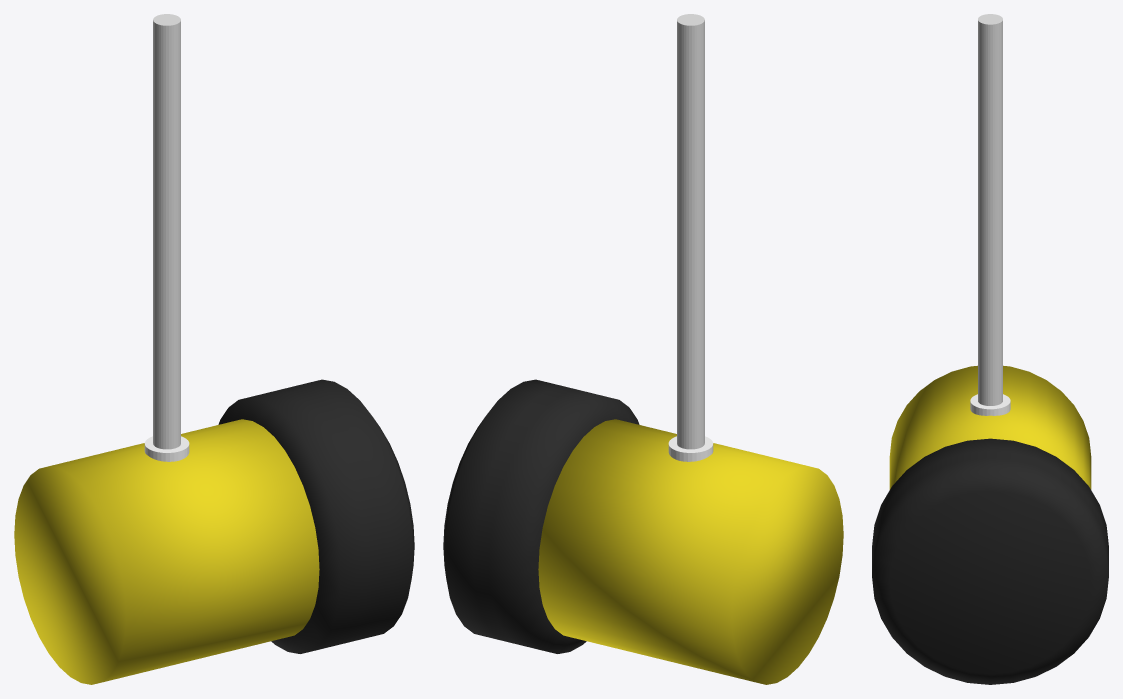
Rendered from pendulum_hammer.glb.
3 renders of one model, left to right at view 1: azimuth 30°, elevation 25°; view 2: azimuth 150°, elevation 25°; view 3: azimuth 270°, elevation 25°, orthographic. The views are drawn at different scales.
Visible parts, largest first — view 1: Cylinder, Cylinder.001, Cylinder.002, Cylinder.003; view 2: Cylinder, Cylinder.001, Cylinder.002, Cylinder.003; view 3: Cylinder.001, Cylinder, Cylinder.002, Cylinder.003.
Part boxes in pixels (bbox=[...]): Cylinder: bbox=[14, 419, 319, 684]; Cylinder.001: bbox=[218, 379, 414, 653]; Cylinder.002: bbox=[153, 14, 180, 449]; Cylinder.003: bbox=[144, 436, 189, 461]; Cylinder: bbox=[538, 419, 843, 684]; Cylinder.001: bbox=[443, 379, 639, 653]; Cylinder.002: bbox=[677, 14, 704, 449]; Cylinder.003: bbox=[668, 436, 713, 461]; Cylinder.001: bbox=[872, 438, 1108, 684]; Cylinder: bbox=[889, 365, 1091, 489]; Cylinder.002: bbox=[978, 14, 1002, 405]; Cylinder.003: bbox=[970, 394, 1010, 415].
Size of the model in its own units: 2.98 by 6.43 by 2.35.
